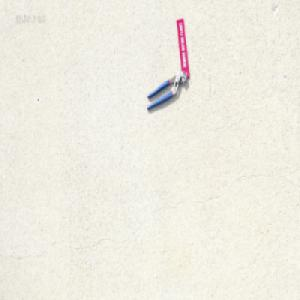Label: (175, 18, 190, 78)
Pliers: (146, 68, 188, 111)
